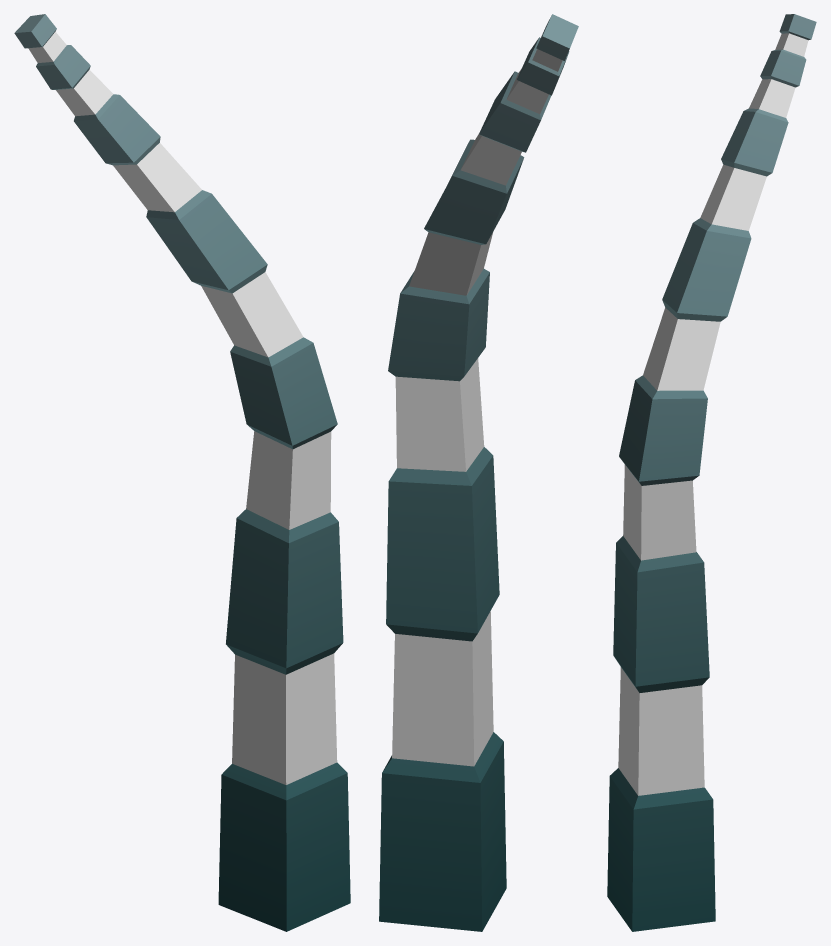
3 views of the same model, side by side, from view 1: azimuth 30°, elevation 25°; view 2: azimuth 150°, elevation 25°; view 3: azimuth 270°, elevation 25° (orthographic). The views are drawn at different scales.
Visible parts, largest first — view 1: Cube.146; view 2: Cube.146; view 3: Cube.146.
Part boxes in pixels (x1,y1,x2,y2): Cube.146: [14, 14, 350, 931]; Cube.146: [379, 14, 578, 931]; Cube.146: [607, 14, 816, 931].
Bounding box in the file's own units: 5.43 × 18.88 × 4.38.
